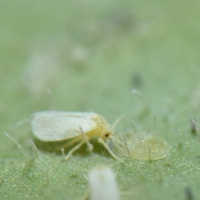insect: (31, 111, 118, 159)
